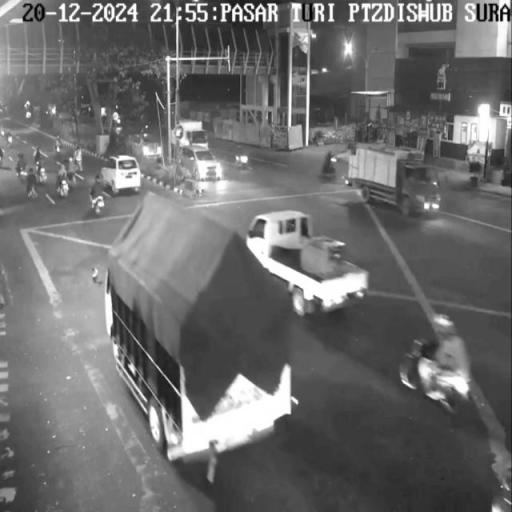car: (185, 147, 224, 184), (106, 155, 142, 193)
motorcycle: (394, 342, 476, 396), (24, 167, 44, 203), (18, 145, 36, 185), (90, 174, 108, 208), (59, 160, 73, 198), (232, 147, 255, 168), (33, 158, 50, 186), (326, 147, 340, 177)
truck: (96, 216, 253, 482), (254, 200, 370, 315), (346, 136, 444, 222), (179, 120, 213, 152)
